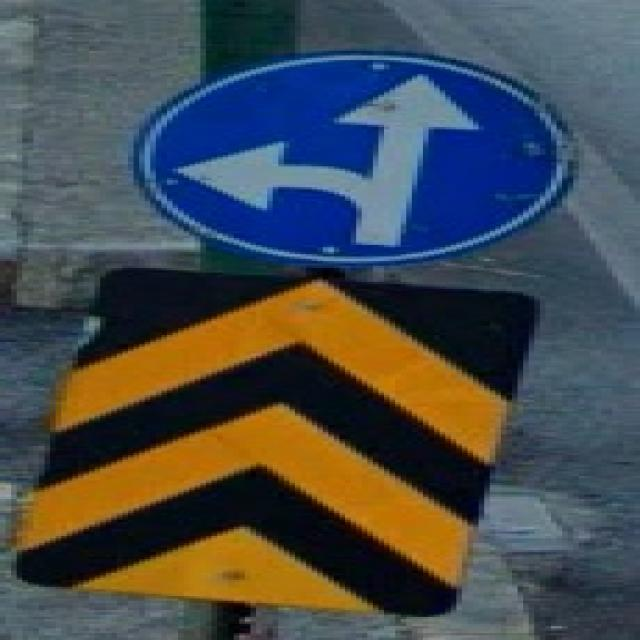Straight or Left: (137, 53, 577, 261)
